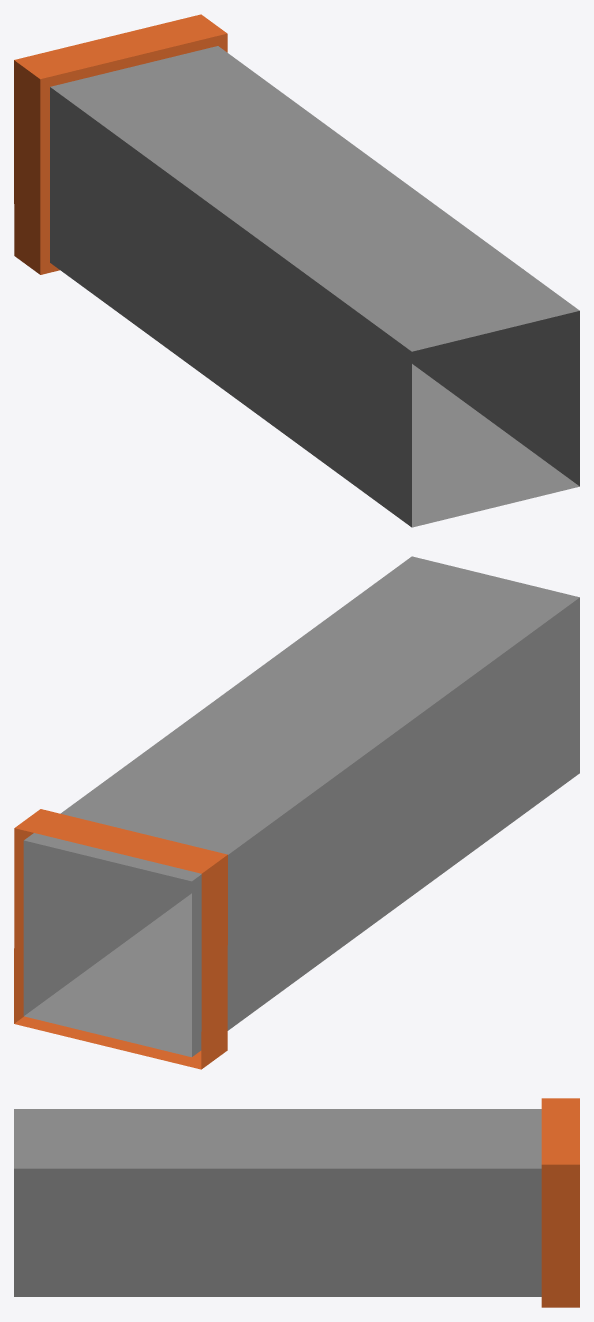
File: Interior_column002.fbx
The picture shows the model from 3 angles, top to bottom: view 1: azimuth 30°, elevation 25°; view 2: azimuth 150°, elevation 25°; view 3: azimuth 270°, elevation 25°; orthographic projection. The views are drawn at different scales.
Parts seen in each view (by area): view 1: Interior_column002; view 2: Interior_column002; view 3: Interior_column002.
Part boxes in pixels (box(x1,y1,x2,y2)): Interior_column002: box(14, 14, 579, 527); Interior_column002: box(14, 556, 579, 1069); Interior_column002: box(14, 1098, 579, 1307).
Bounding box in the file's own units: 21.98 × 78.74 × 21.93.
